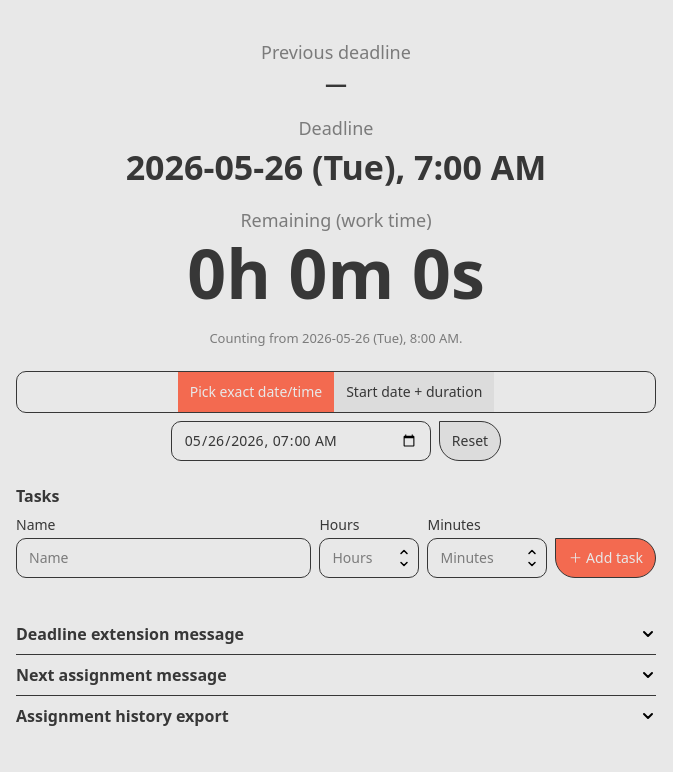
Test: App deadline behavior › extends main deadline when adding task entries
Replace the text in the field named "Deadline time" with "2026-04-10T12:00" at (301, 441), box 171,421 -> 431,461
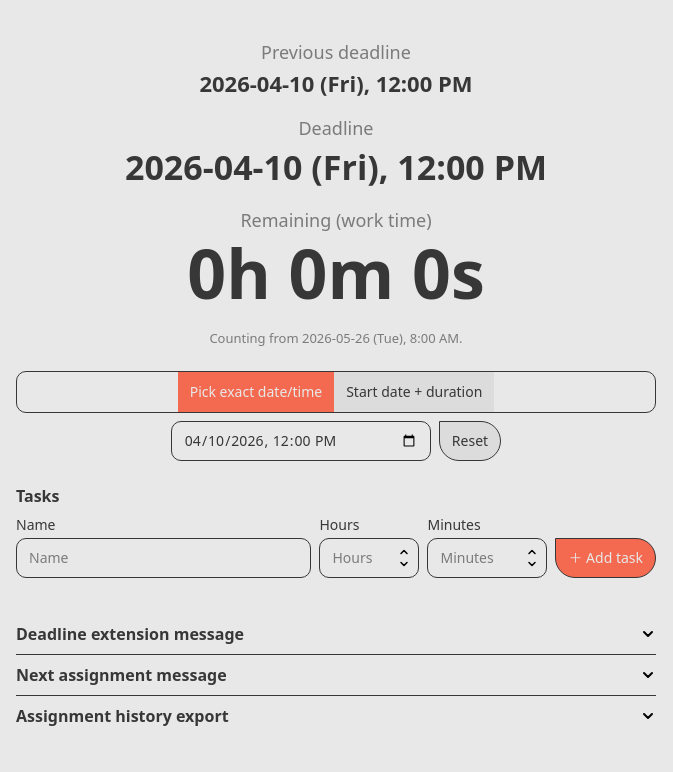
Expected: the element with class "deadline" shows "2026-04-10", 125,144 -> 547,190
Expected: the element with class "deadline" shows "12:00 PM", 125,144 -> 547,190
Type "English news + recording" into the field labelled "Name".
click(164, 558); type("English news + recording")  # box 16,538 -> 312,578
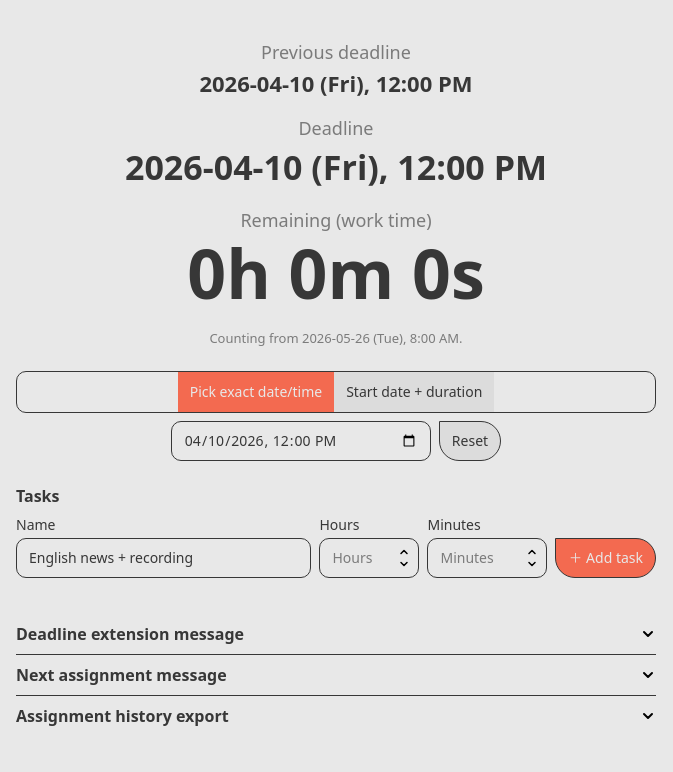
Type "2" into the number field labelled "Hours".
click(370, 558); type("2")  # box 320,538 -> 420,578
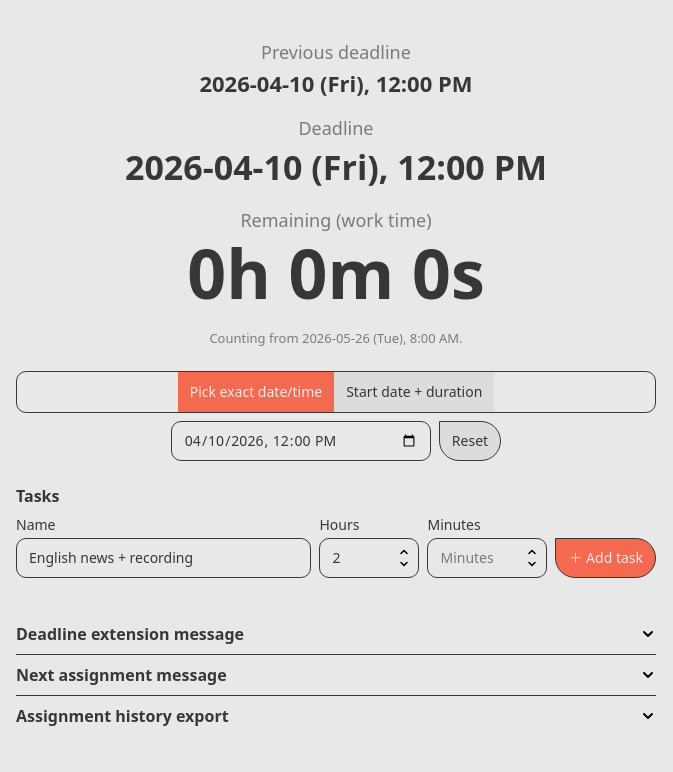
Type "0" into the number field labelled "Minutes".
click(488, 558); type("0")  # box 428,538 -> 548,578
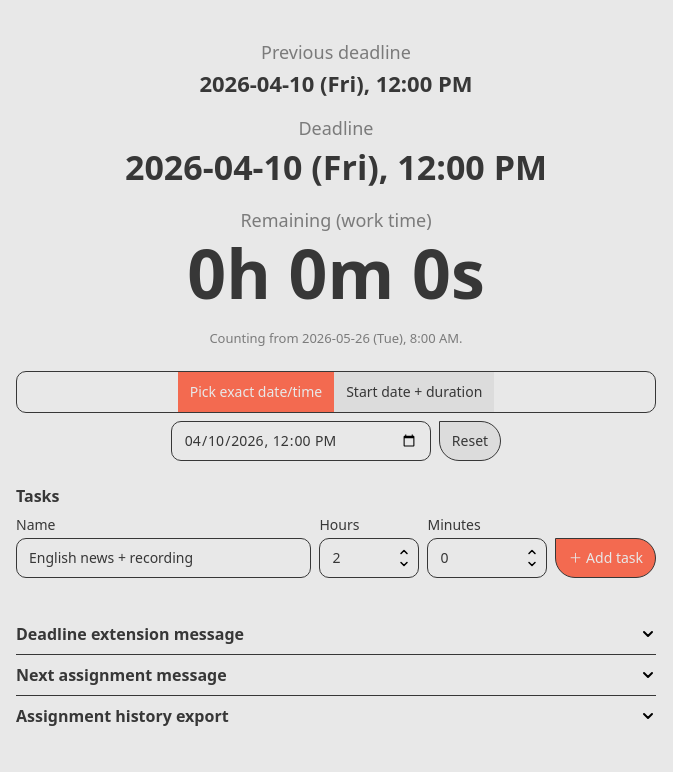
Click the button "Add task".
click(606, 558)  # box 556,538 -> 656,578
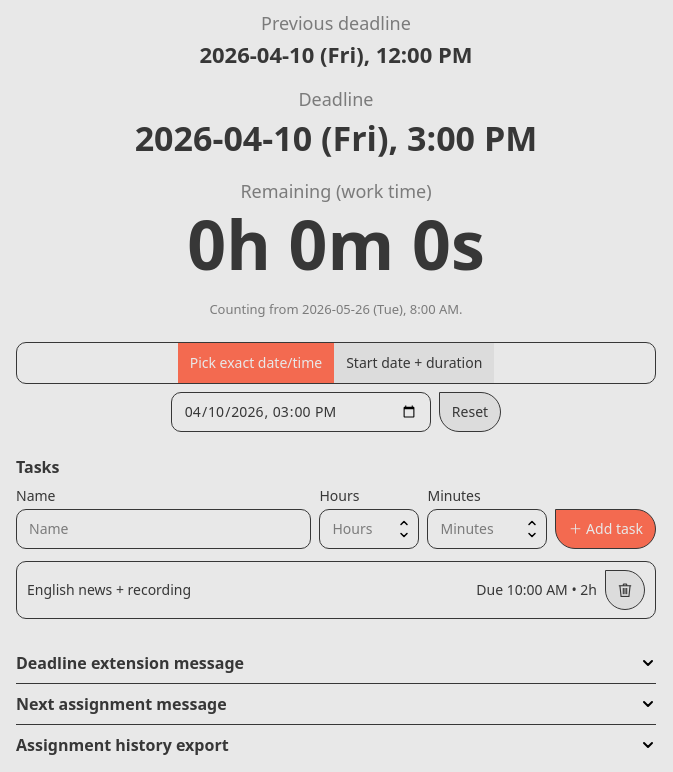
Expected: the element with class "deadline" shows "3:00 PM", 135,115 -> 537,161
